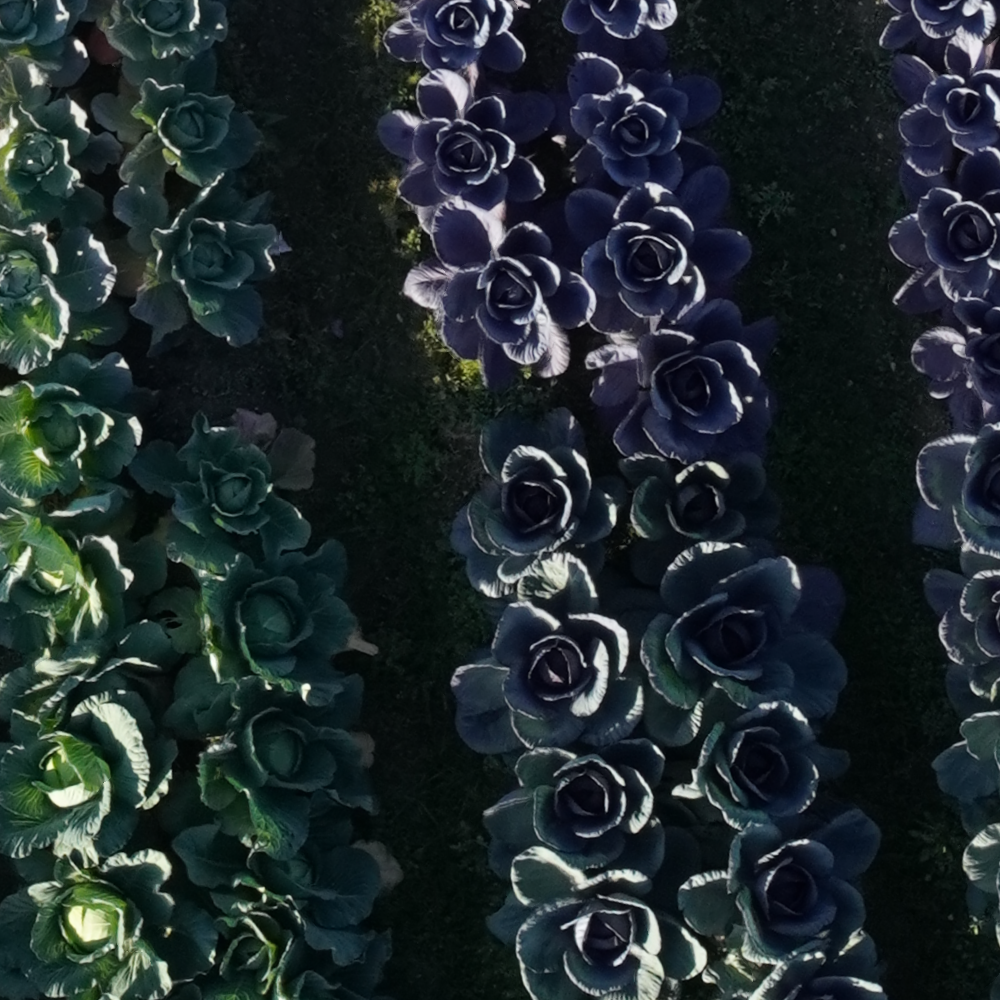Cabbage: (451, 553, 664, 768), (639, 537, 847, 750), (158, 674, 382, 860), (676, 810, 882, 998), (403, 199, 596, 394), (104, 170, 291, 357), (482, 846, 708, 1000), (1, 690, 179, 883), (178, 537, 381, 706), (451, 406, 627, 597), (481, 738, 703, 887), (0, 849, 216, 1000), (585, 299, 779, 463), (566, 165, 753, 334), (128, 408, 316, 576), (376, 63, 552, 235), (0, 487, 169, 659), (0, 587, 201, 722), (172, 812, 405, 928), (0, 352, 162, 514), (664, 702, 851, 839), (91, 51, 266, 193), (619, 438, 784, 586), (547, 52, 722, 190), (0, 50, 123, 229), (0, 222, 129, 376), (885, 148, 1000, 313), (204, 905, 394, 999), (891, 38, 1000, 177), (913, 420, 1000, 560), (923, 542, 1000, 700), (911, 297, 1000, 433), (719, 930, 889, 1000), (0, 0, 123, 90), (383, 1, 540, 71), (931, 662, 1000, 805), (97, 0, 230, 60), (562, 0, 678, 68), (879, 0, 996, 61), (961, 798, 999, 948)
